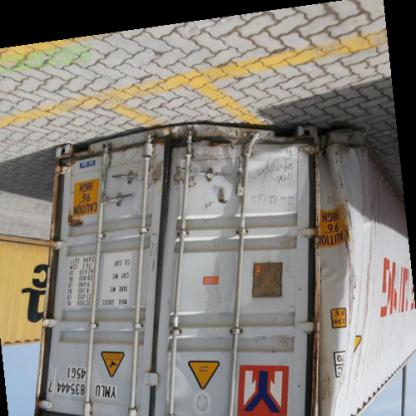Damage: (311, 126, 381, 408), (112, 144, 208, 206), (248, 138, 312, 210), (246, 318, 296, 364), (61, 209, 86, 233)
